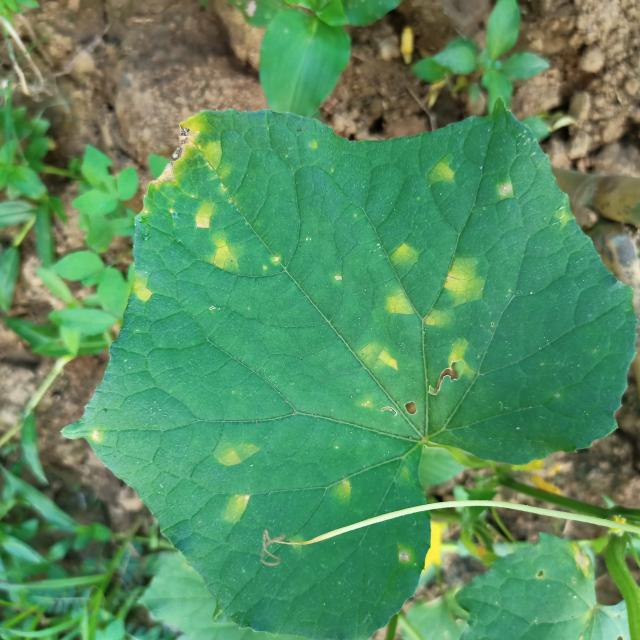disease_cucumber: (344, 222, 491, 417), (163, 115, 238, 284), (203, 428, 265, 531), (322, 462, 358, 510), (422, 156, 463, 193), (122, 268, 152, 312)
